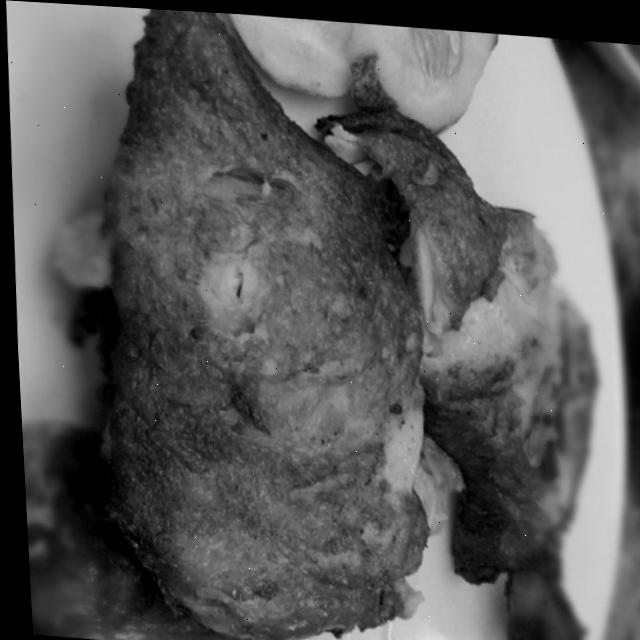鸡肉料理 含炸鸡: (35, 14, 640, 640)
